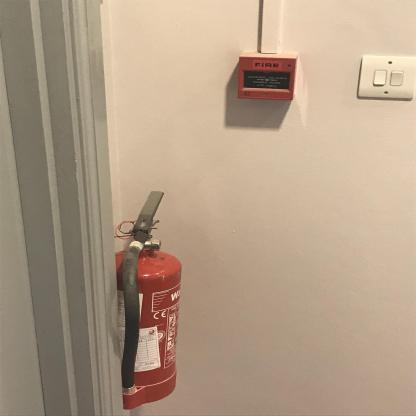Fire Extinguisher: (114, 187, 190, 409)
